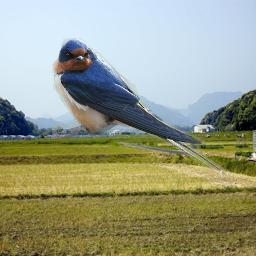Swallow: (52, 38, 230, 179)
